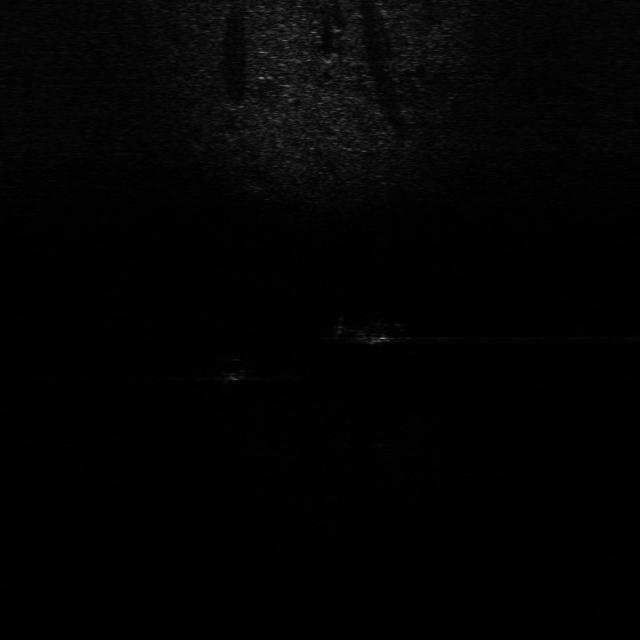ball: (214, 354, 250, 384)
human body: (327, 313, 412, 348)
